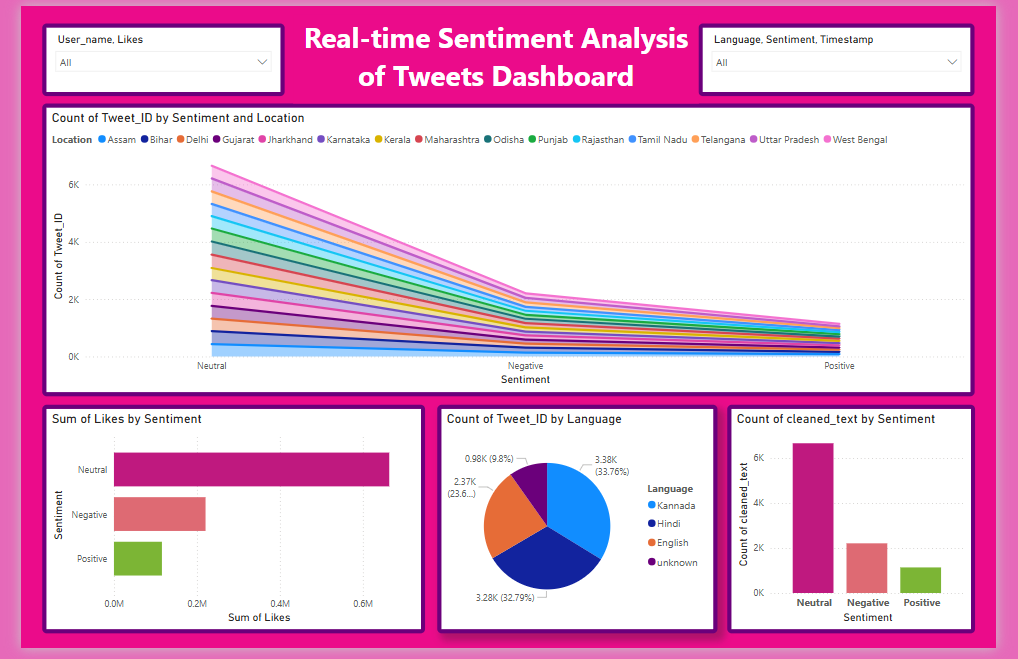

The dashboard page shown, as its layout file describes it:
{"tool":"powerbi","page":{"name":"Page 1","canvas":[1300,857],"ordinal":0},"visuals":[{"type":"stackedAreaChart","fields":{"Category":["Cleaned-RealTime-Tweet.Sentiment"],"Y":["Cleaned-RealTime-Tweet.Tweet_ID"],"Series":["Cleaned-RealTime-Tweet.Location"]},"box":[28.3,130,1243.3,390],"z":0},{"type":"pieChart","fields":{"Category":["Cleaned-RealTime-Tweet.Language"],"Y":["Cleaned-RealTime-Tweet.Tweet_ID"]},"box":[555,531.7,373.3,305],"z":1000},{"type":"clusteredBarChart","fields":{"Category":["Cleaned-RealTime-Tweet.Sentiment"],"Y":["Cleaned-RealTime-Tweet.Likes"]},"box":[28.3,531.7,510,305],"z":2000},{"type":"slicer","fields":{"Values":["Cleaned-RealTime-Tweet.User_name","Cleaned-RealTime-Tweet.Likes"]},"box":[28.3,23.3,323.3,96.7],"z":3000},{"type":"columnChart","fields":{"Category":["Cleaned-RealTime-Tweet.Sentiment"],"Y":["Cleaned-RealTime-Tweet.cleaned_text"]},"box":[941.7,531.7,330,305],"z":4000},{"type":"slicer","fields":{"Values":["Cleaned-RealTime-Tweet.Language","Cleaned-RealTime-Tweet.Sentiment","Cleaned-RealTime-Tweet.Timestamp"]},"box":[903.3,23.3,368.3,96.7],"z":5000},{"type":"textbox","box":[363.3,11.7,540,118.3],"z":6000}]}

Visuals, with their boxes in screenshot pixels (x1, y1, x2, y2), scaled from the page's 1300x857 canvas onto the 1018x659 screenshot:
stackedAreaChart - Cleaned-RealTime-Tweet.Sentiment x Cleaned-RealTime-Tweet.Tweet_ID: box(22, 100, 996, 400)
pieChart - Cleaned-RealTime-Tweet.Language x Cleaned-RealTime-Tweet.Tweet_ID: box(435, 409, 727, 643)
clusteredBarChart - Cleaned-RealTime-Tweet.Sentiment x Cleaned-RealTime-Tweet.Likes: box(22, 409, 422, 643)
slicer - Cleaned-RealTime-Tweet.User_name x Cleaned-RealTime-Tweet.Likes: box(22, 18, 275, 92)
columnChart - Cleaned-RealTime-Tweet.Sentiment x Cleaned-RealTime-Tweet.cleaned_text: box(737, 409, 996, 643)
slicer - Cleaned-RealTime-Tweet.Language x Cleaned-RealTime-Tweet.Sentiment: box(707, 18, 996, 92)
textbox: box(284, 9, 707, 100)
